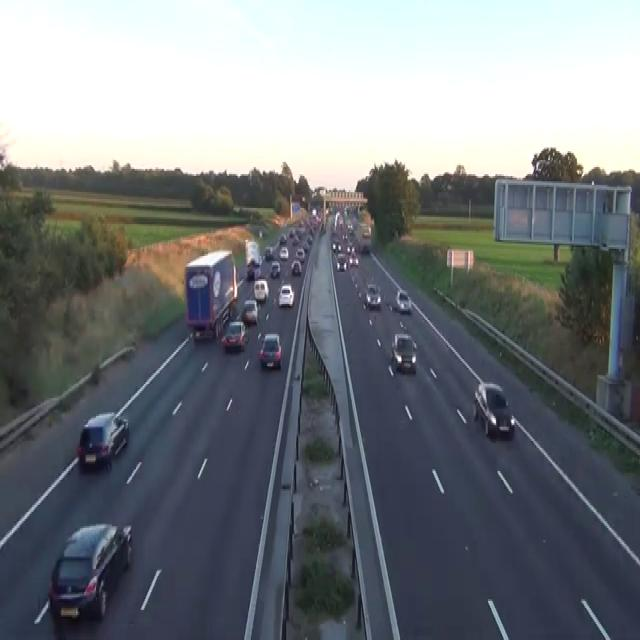Car: (48, 521, 132, 620), (77, 411, 129, 469), (472, 381, 515, 439), (391, 332, 417, 373), (221, 320, 247, 352), (259, 332, 282, 368), (241, 298, 259, 324), (364, 283, 381, 309), (278, 282, 294, 308), (395, 288, 411, 313), (253, 278, 269, 300), (246, 260, 260, 279), (358, 235, 370, 252), (336, 252, 347, 270), (270, 260, 280, 278), (291, 260, 301, 276), (264, 243, 273, 260), (349, 250, 358, 266), (279, 246, 288, 260), (296, 247, 305, 261), (361, 224, 371, 236), (246, 265, 254, 279), (332, 240, 341, 252), (272, 215, 281, 226), (347, 222, 354, 235), (346, 242, 354, 252), (232, 204, 240, 213), (279, 233, 286, 243), (292, 235, 299, 245), (336, 242, 342, 252), (288, 228, 295, 236), (321, 222, 326, 233), (312, 208, 316, 215), (259, 228, 262, 236)
Truck: (184, 249, 237, 341), (244, 238, 261, 279), (356, 222, 371, 252)
